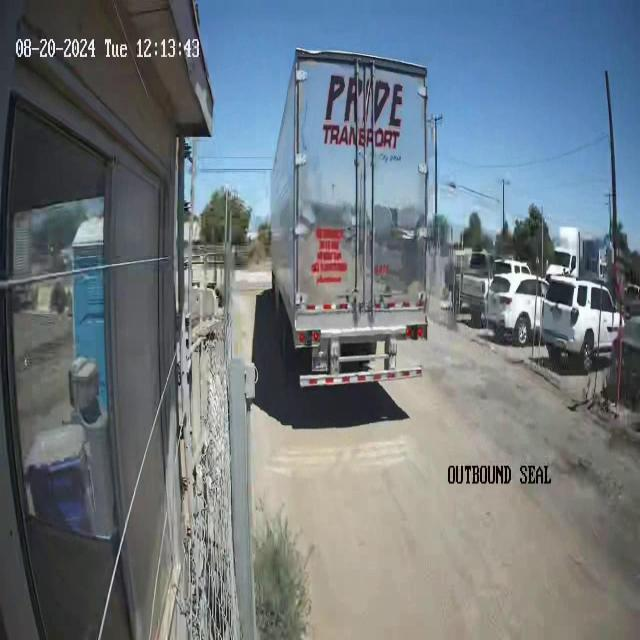TRUCK_OUT: (269, 46, 431, 383)
